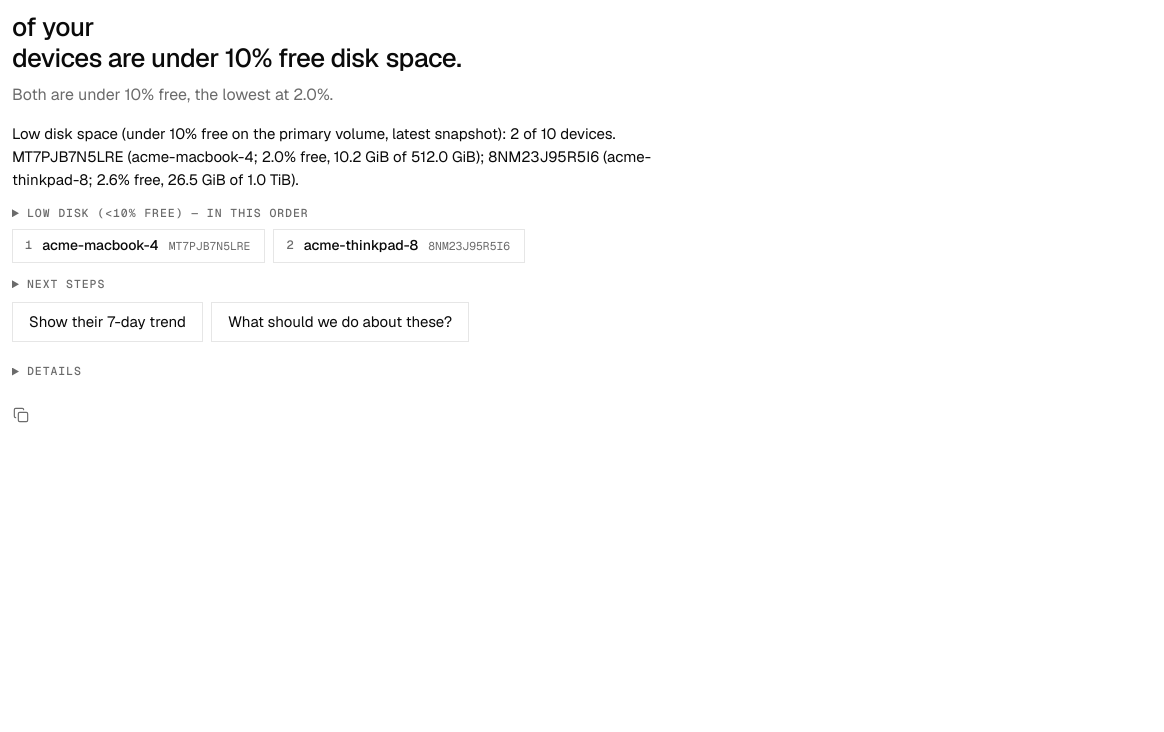
Test case: an answer › says a replayed answer is simulated
Click the button "Details" at (52, 372), box [12,356,92,388]
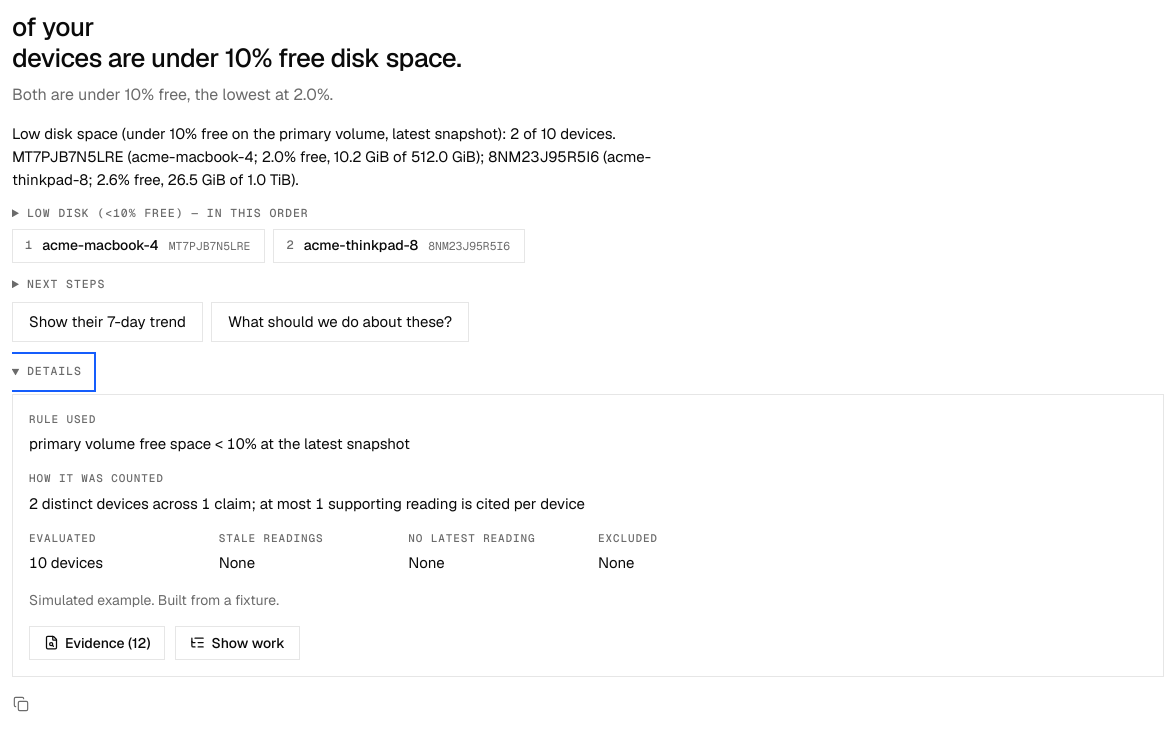
Expected: the text "Simulated example. Built from a fixture." is shown, [29,591,279,609]
